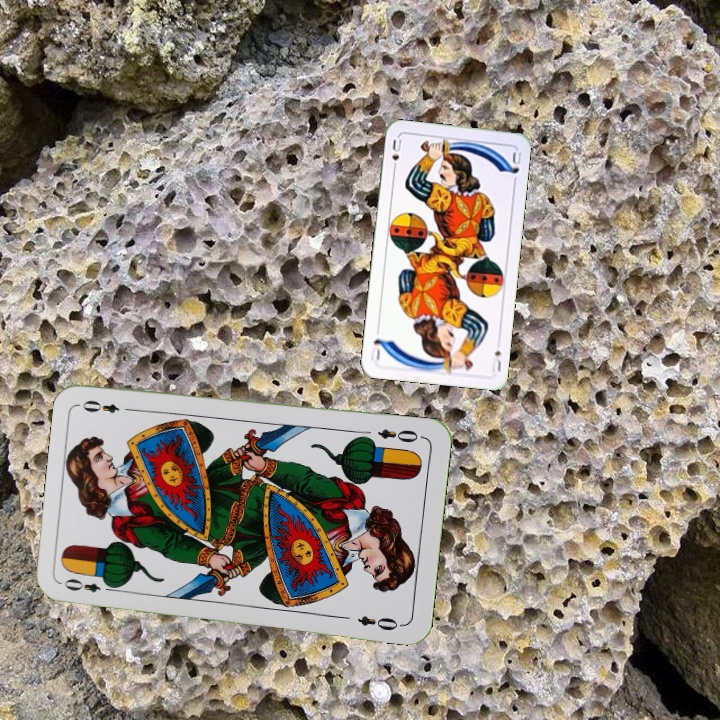EO: (60, 575, 118, 595), (373, 424, 426, 445)
SU: (388, 134, 404, 174), (488, 346, 504, 375)
